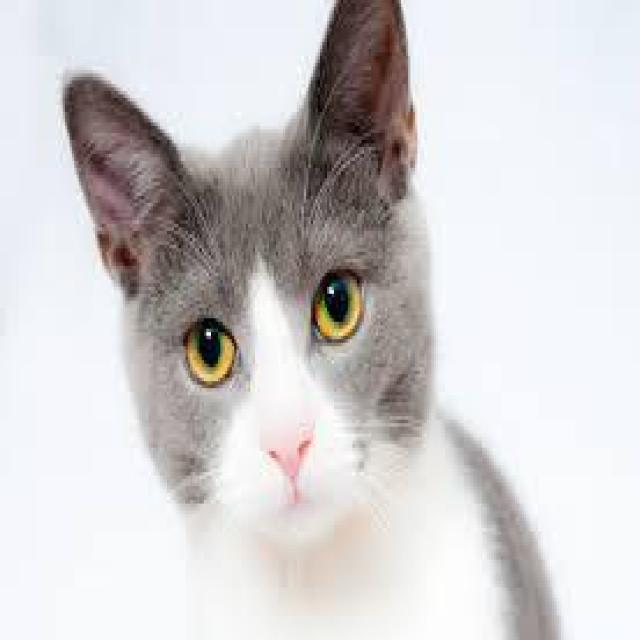Cat: (53, 1, 443, 570)
